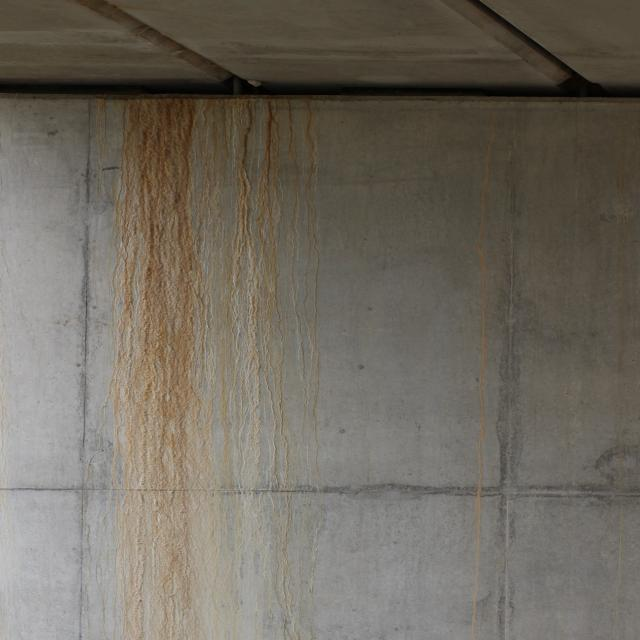corrosion: (88, 93, 323, 640)
